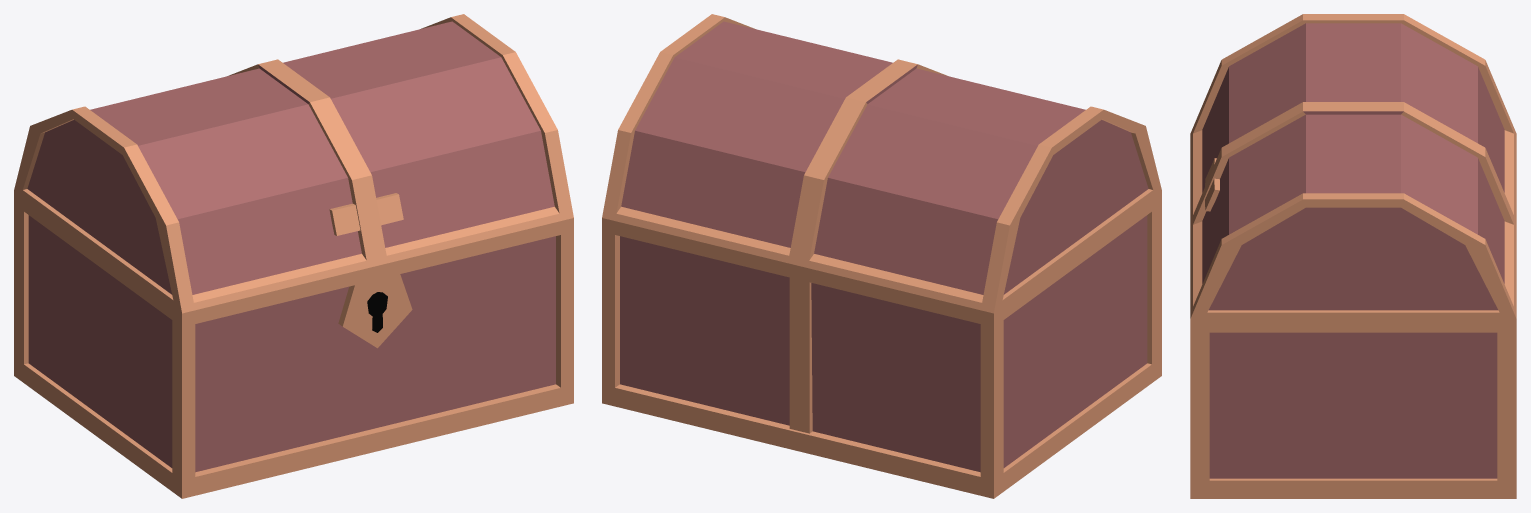
The model's file is Chest.fbx.
3 views of the same model, side by side, from view 1: azimuth 30°, elevation 25°; view 2: azimuth 150°, elevation 25°; view 3: azimuth 270°, elevation 25° (orthographic). The views are drawn at different scales.
Visible parts, largest first — view 1: Chest; view 2: Chest; view 3: Chest.
Part boxes in pixels (<box>): Chest: <box>14,14,573,498</box>; Chest: <box>602,14,1161,498</box>; Chest: <box>1190,14,1516,498</box>.
Size of the model in its own units: 144 by 109 by 107.
